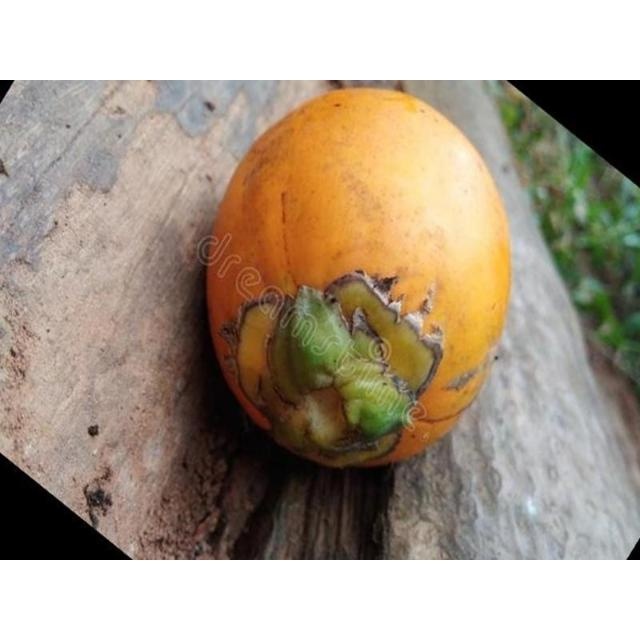good: (206, 89, 511, 472)
